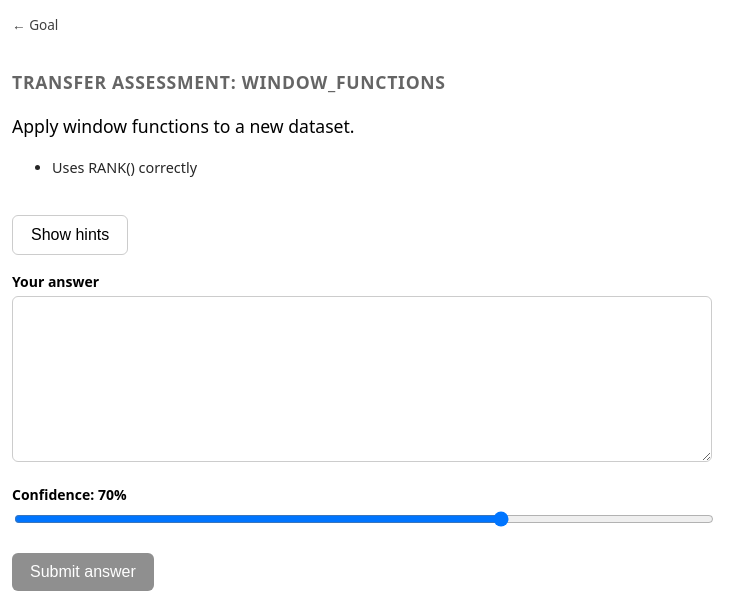
Test: AssessmentUI › submits an answer and shows transfer/independence badges
Expected: the text "Apply window functions to a new dataset." is shown, [12,114,355,138]
Type "SELECT RANK() OVER (...) FROM shipments;" into the text box labelled "Your answer" at (362, 379), box [12,296,712,462]
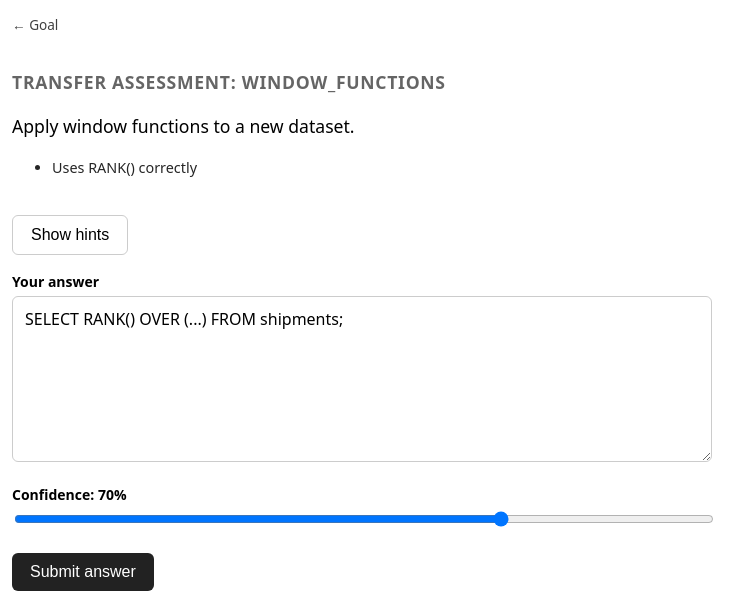
Click the button "Submit answer" at (83, 572), box [12,553,154,591]
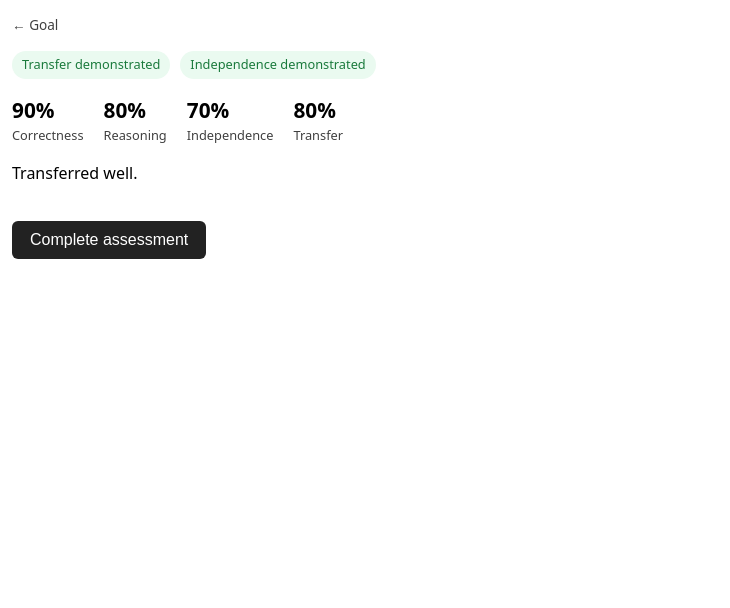
Expected: the text "Transfer demonstrated" is shown, [12,51,170,79]
Expected: the text "Independence demonstrated" is shown, [180,51,376,79]
Expected: the text "Transferred well." is shown, [12,162,138,184]
